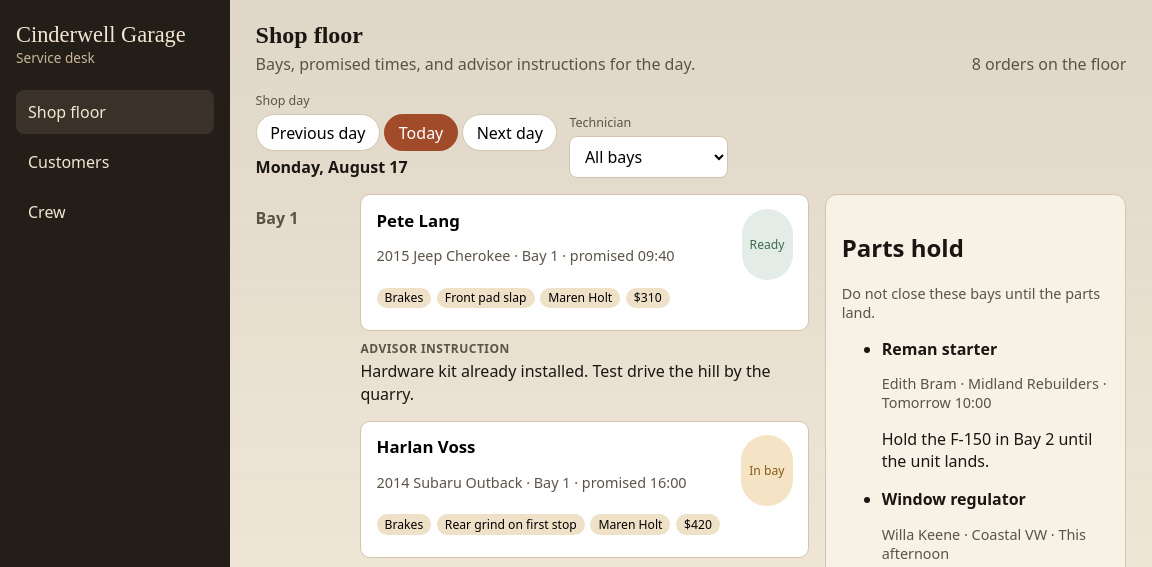
Test: Cinderwell garage board › moves between shop sections
The image size is (1152, 567).
Step 1. Click the button "Customers" → (115, 162), box x1=16 y1=140 x2=214 y2=184
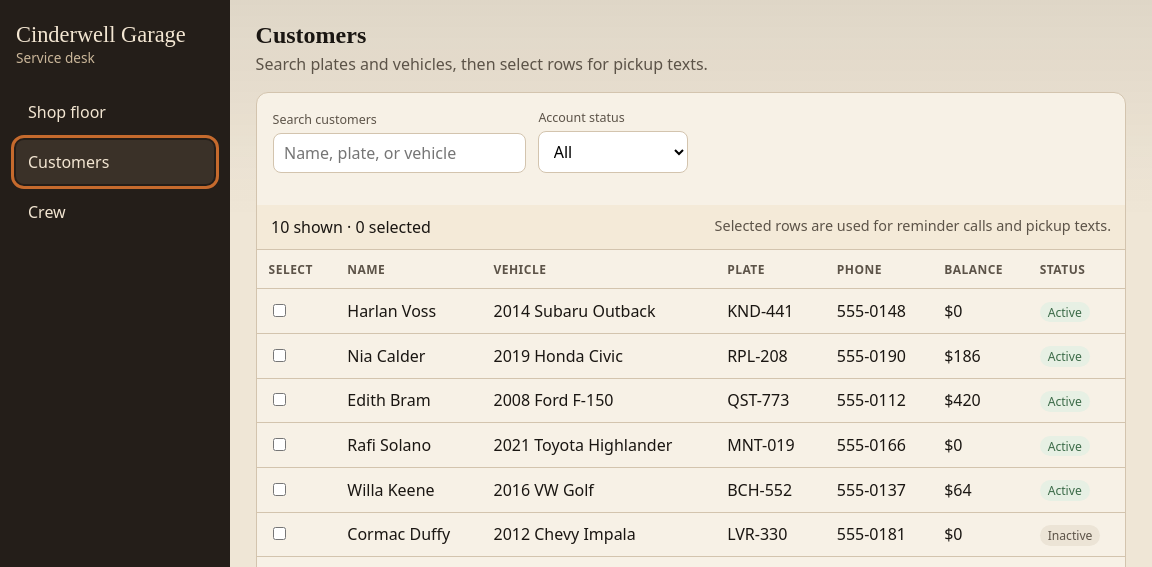
expect the heading "Customers" is shown: met, box x1=256 y1=22 x2=366 y2=48
Step 2. Click the button "Crew" → (115, 212), box x1=16 y1=190 x2=214 y2=234
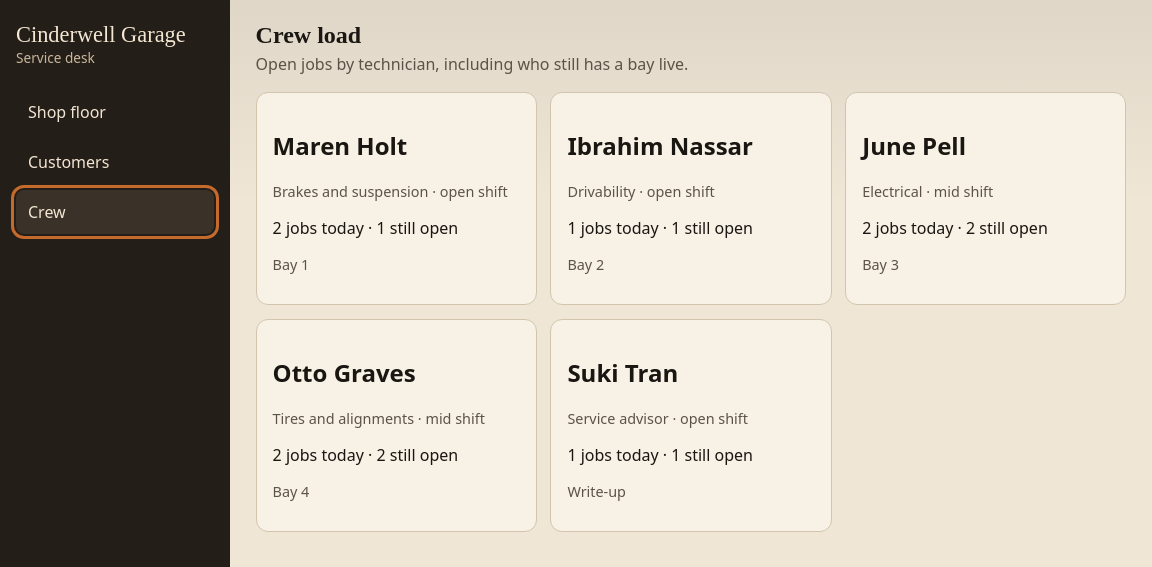
expect the heading "Crew load" is shown: met, box x1=256 y1=22 x2=361 y2=48
expect the heading "Maren Holt" is shown: met, box x1=273 y1=129 x2=407 y2=162
